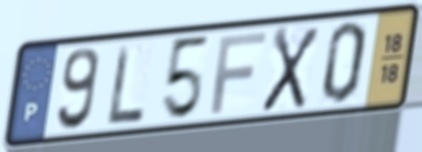0: (318, 18, 370, 108)
5: (158, 32, 214, 123)
9: (56, 45, 103, 133)
F: (208, 29, 269, 116)
L: (106, 41, 147, 128)
X: (258, 24, 323, 115)
